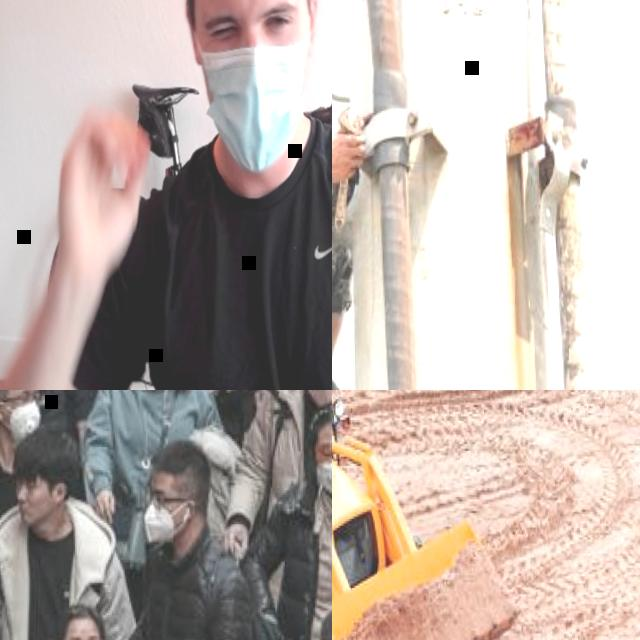Mask: (188, 24, 312, 175), (143, 504, 179, 550), (0, 401, 41, 440), (316, 458, 332, 499)
NO-Hardhat: (10, 425, 81, 480), (149, 437, 212, 482), (64, 601, 96, 634), (309, 397, 332, 439)
NO-Mask: (15, 496, 58, 528)
NO-Safety Vest: (144, 121, 332, 390), (0, 522, 100, 640), (144, 550, 233, 640)
Person: (0, 0, 332, 390), (100, 429, 257, 640), (0, 425, 148, 640), (82, 390, 228, 564), (246, 395, 332, 640), (238, 390, 332, 606), (124, 390, 271, 440), (0, 390, 45, 540)
vehicle: (332, 390, 525, 640)
